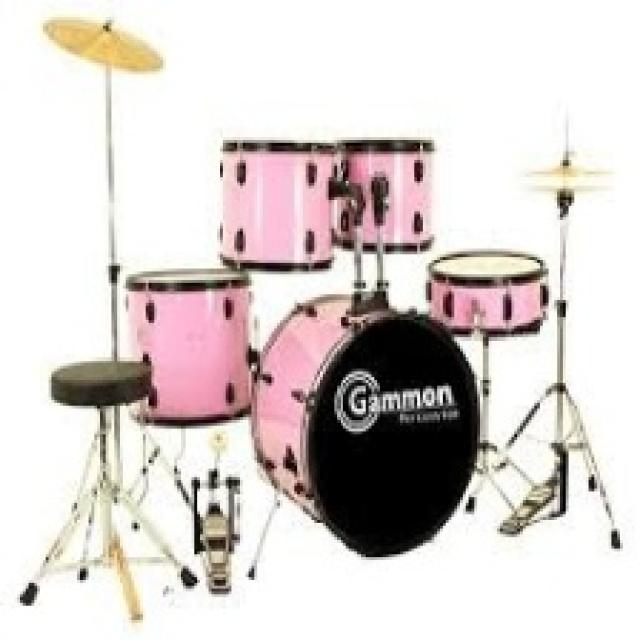drums: (40, 9, 625, 602)
